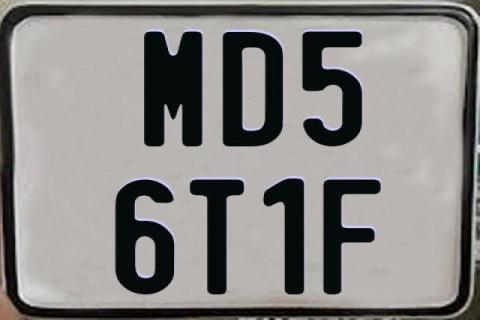0: (112, 177, 176, 295), (301, 31, 364, 149), (261, 179, 302, 299)
D: (222, 30, 287, 146)
F: (323, 179, 385, 295)
M: (143, 30, 203, 148)
T: (189, 177, 247, 297)
